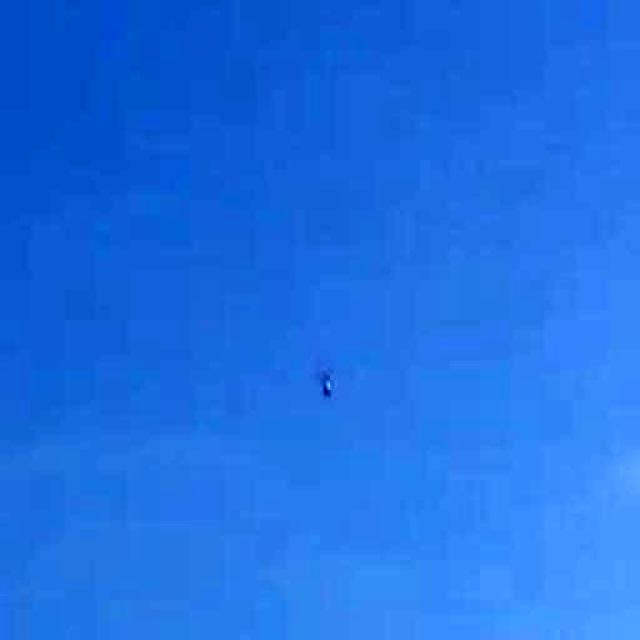drone: (279, 319, 375, 442)
